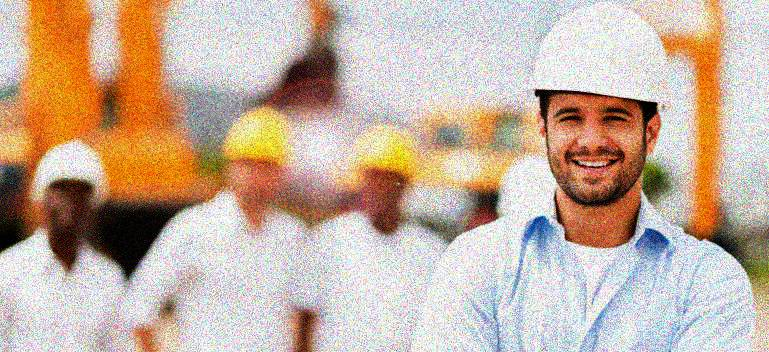helmet: (525, 1, 674, 208), (30, 139, 115, 235), (218, 103, 299, 202), (351, 121, 418, 220)
